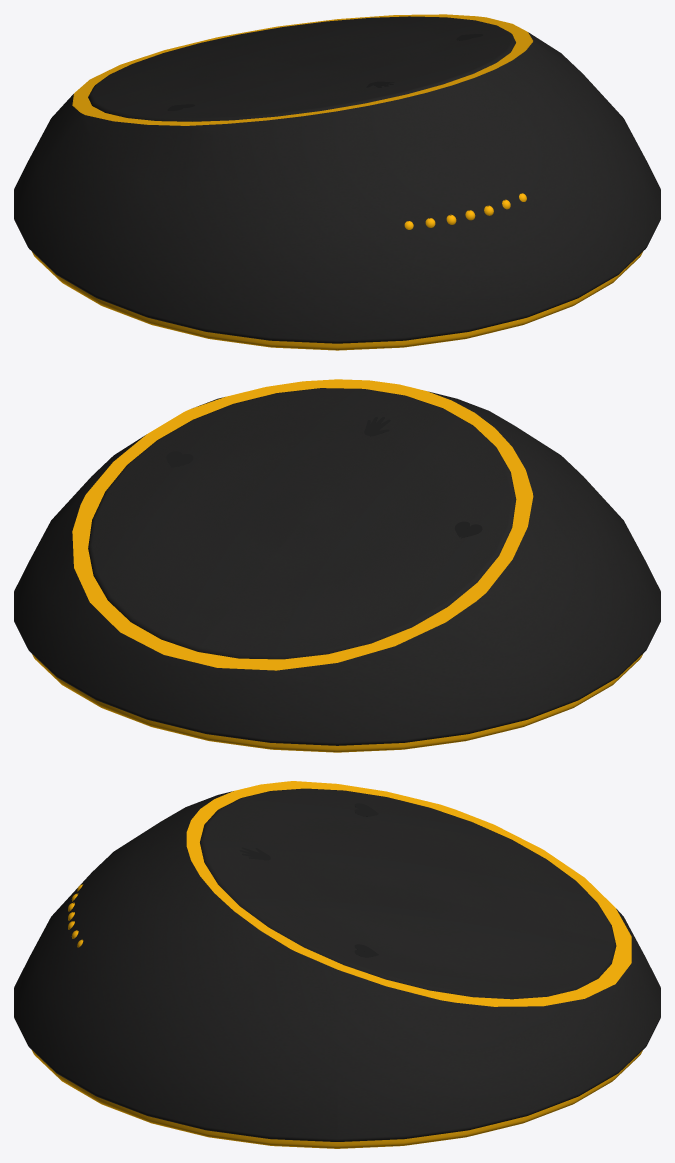
The model's file is Bake_Pod.fbx.
The picture shows the model from 3 angles, top to bottom: view 1: azimuth 30°, elevation 25°; view 2: azimuth 150°, elevation 25°; view 3: azimuth 270°, elevation 25°; orthographic projection.
Visible parts, largest first — view 1: face_visage, BASE_LED, LED_dessous, Sphère_8; view 2: face_visage, BASE_LED, LED_dessous; view 3: face_visage, BASE_LED, LED_dessous.
Boxes of the visible parts, x1=… form: face_visage: x1=14, y1=16, x2=660, y2=343; BASE_LED: x1=72, y1=14, x2=532, y2=125; LED_dessous: x1=32, y1=252, x2=642, y2=350; Sphère_8: x1=404, y1=193, x2=526, y2=229; face_visage: x1=14, y1=388, x2=660, y2=745; BASE_LED: x1=72, y1=379, x2=533, y2=670; LED_dessous: x1=32, y1=654, x2=642, y2=752; face_visage: x1=14, y1=788, x2=660, y2=1141; BASE_LED: x1=186, y1=781, x2=631, y2=1006; LED_dessous: x1=32, y1=1050, x2=642, y2=1148.
Size of the model in its own units: 6.01 by 1.82 by 5.97.
Materials: 7 (7 with a texture image).
